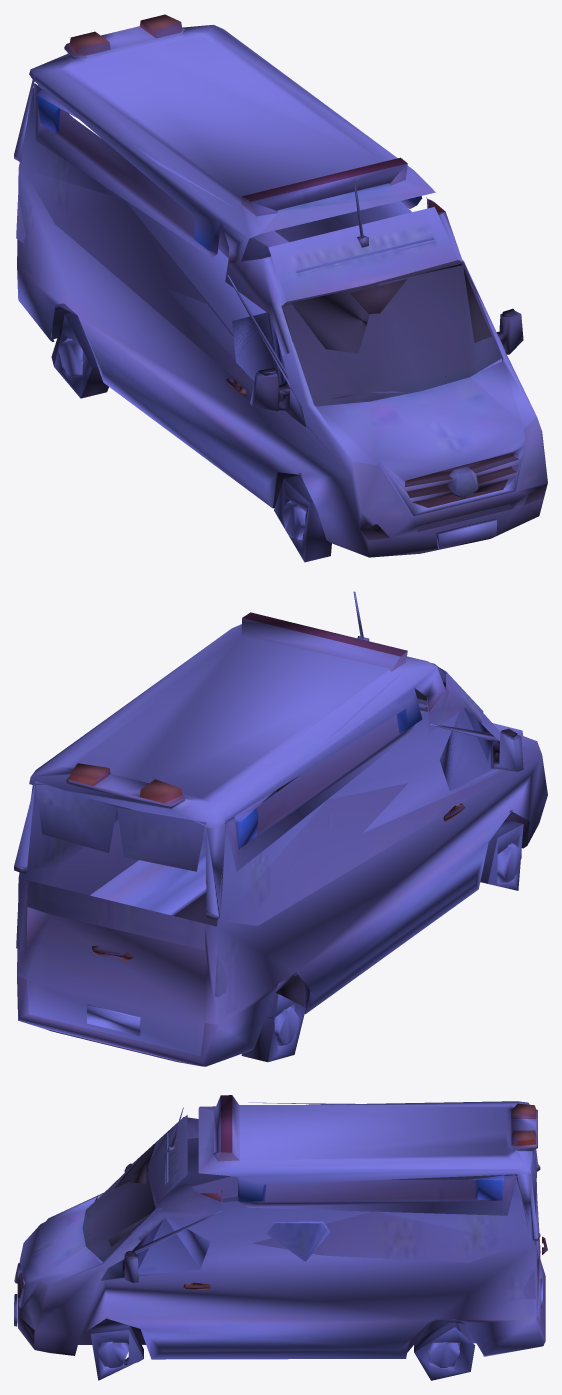
Rendered from model.progressive.glb.
3 renders of one model, top to bottom at view 1: azimuth 30°, elevation 25°; view 2: azimuth 150°, elevation 25°; view 3: azimuth 270°, elevation 25°, orthographic. The views are drawn at different scales.
Visible parts, largest first — view 1: material; view 2: material; view 3: material.
Boxes of the visible parts, x1,y1,x2,y2 form: material: (14,14,547,562); material: (14,591,547,1066); material: (14,1095,547,1380).
Bounding box in the file's own units: 0.826 × 0.9159 × 1.89.
Materials: 1 (1 with a texture image).
